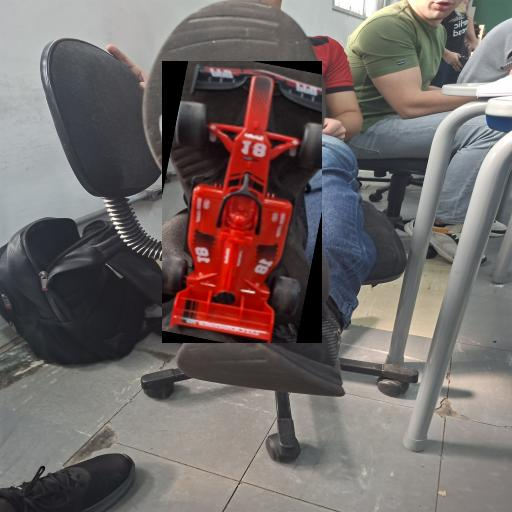carro: (162, 61, 322, 343)
